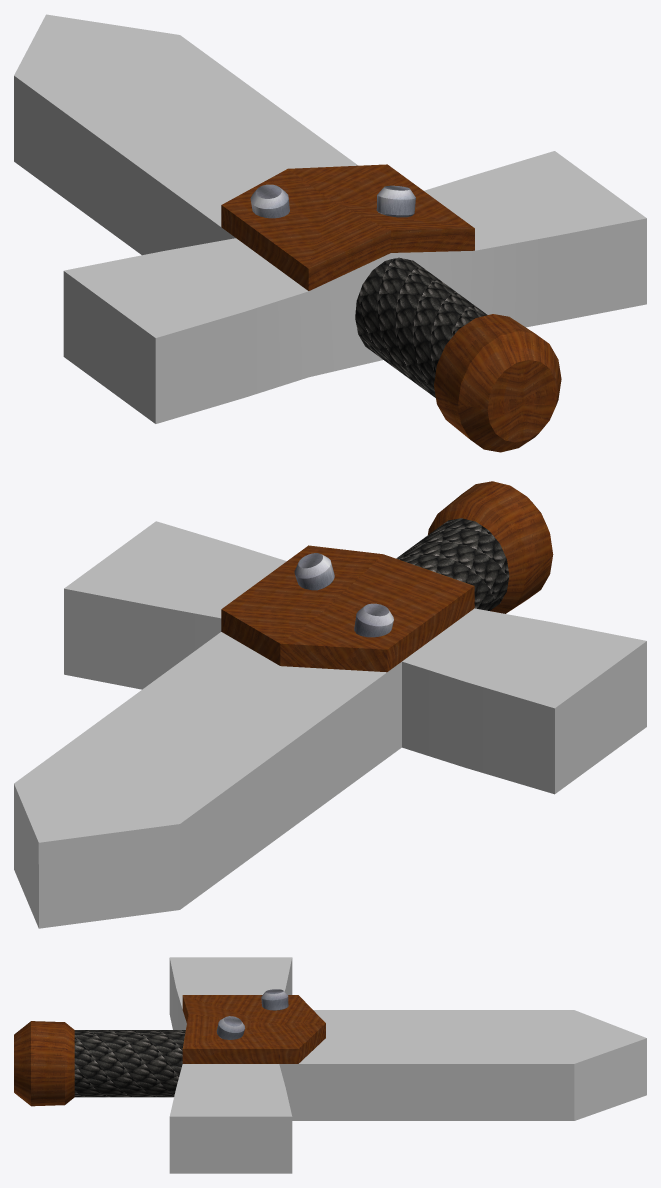
The model's file is espada madera 1.fbx.
3 views of the same model, one above another, from view 1: azimuth 30°, elevation 25°; view 2: azimuth 150°, elevation 25°; view 3: azimuth 270°, elevation 25° (orthographic). The views are drawn at different scales.
Parts seen in each view (by area): view 1: Box001; view 2: Box001; view 3: Box001.
Part boxes in pixels (left/top/right/bottom): Box001: left=14, top=14, right=646, bottom=452; Box001: left=14, top=481, right=646, bottom=928; Box001: left=14, top=957, right=646, bottom=1173.
Bounding box in the file's own units: 30.2 × 8.5 × 50.71.
